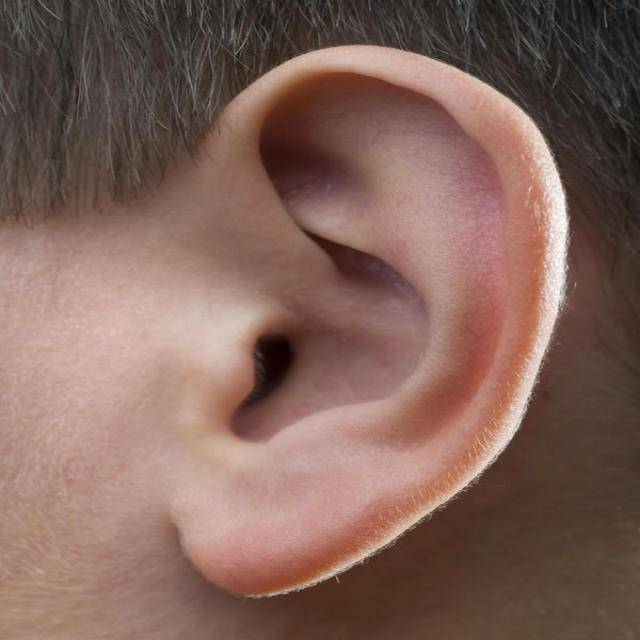earlobe: (177, 432, 381, 601)
wholeear: (176, 43, 566, 600)
